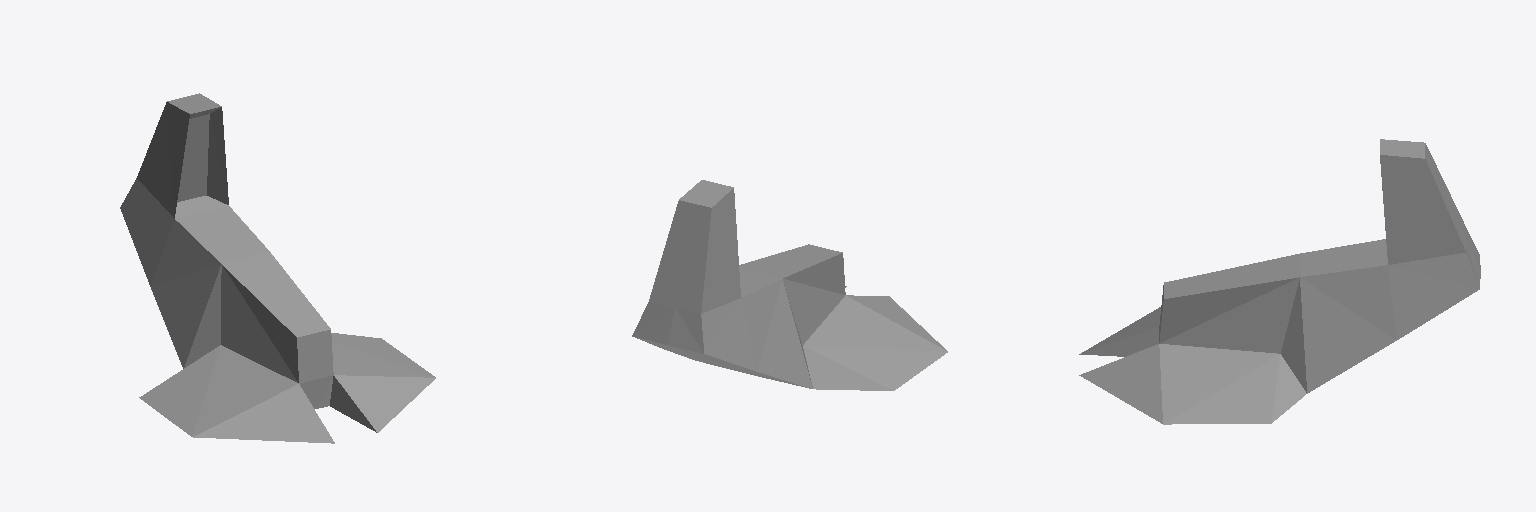
The model's file is scorpio.obj.
3 views of the same model, side by side, from view 1: azimuth 30°, elevation 25°; view 2: azimuth 150°, elevation 25°; view 3: azimuth 270°, elevation 25° (orthographic).
Parts seen in each view (by area): view 1: Box003_Untitled; view 2: Box003_Untitled; view 3: Box003_Untitled.
Part boxes in pixels (x1,y1,x2,y2): Box003_Untitled: (120, 93, 435, 443); Box003_Untitled: (632, 180, 947, 390); Box003_Untitled: (1079, 139, 1480, 424).
Size of the model in its own units: 3.49 by 2.98 by 4.97.